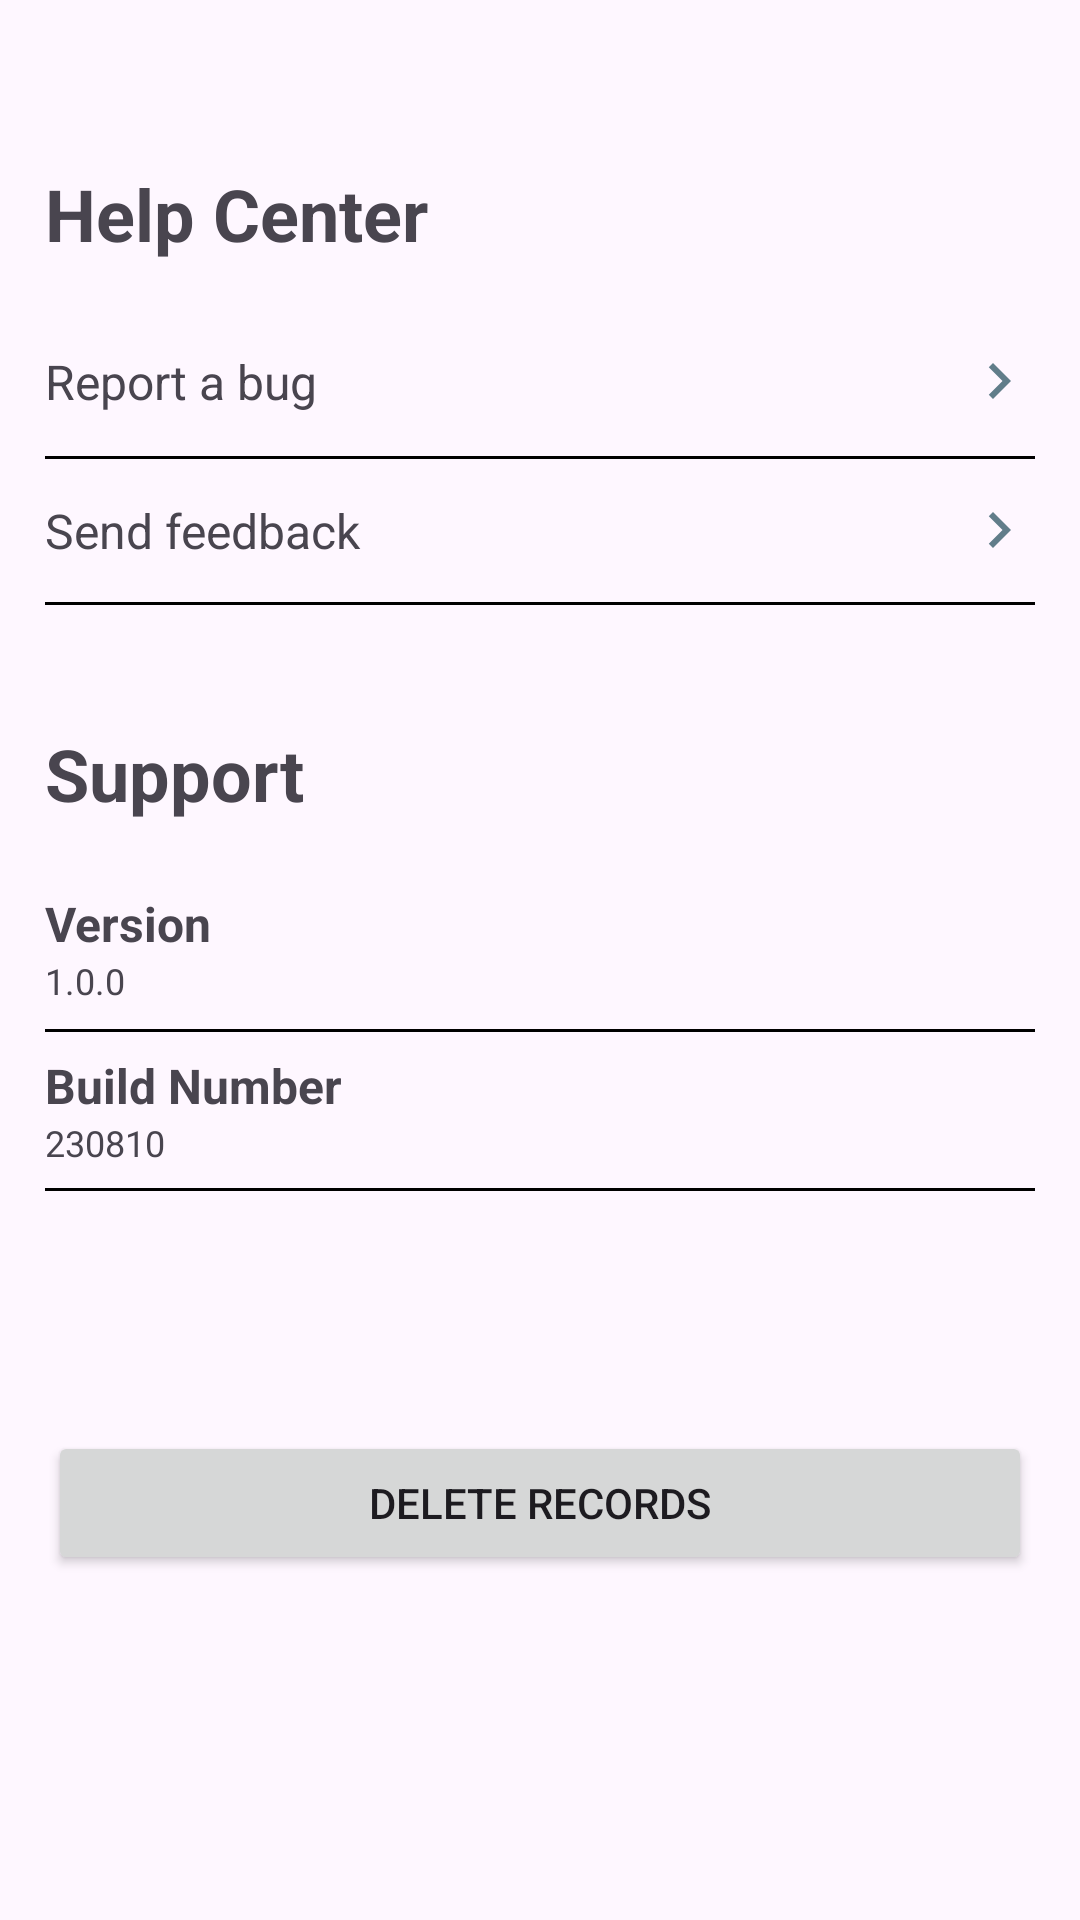

Locate icon controls on the screen. Image size 1080×1920, boxes as (x1, y1, x2, y2).
chevron right: (989, 363, 1011, 399), (989, 512, 1011, 548)
